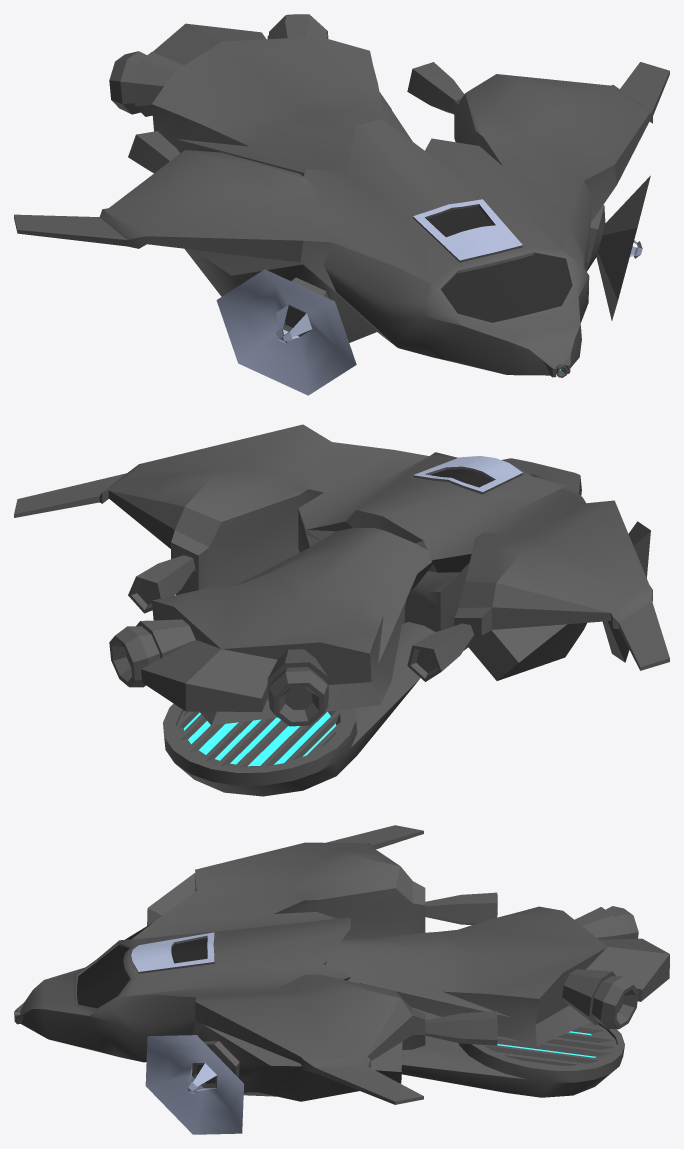
Rendered from Cursed Space.glb.
3 renders of one model, top to bottom at view 1: azimuth 30°, elevation 25°; view 2: azimuth 150°, elevation 25°; view 3: azimuth 270°, elevation 25°, orthographic. The views are drawn at different scales.
Parts seen in each view (by area): view 1: Spaceship.002; view 2: Spaceship.002; view 3: Spaceship.002.
Boxes of the visible parts, left/top/right/bottom form: Spaceship.002: left=14, top=14, right=669, bottom=395; Spaceship.002: left=14, top=424, right=669, bottom=796; Spaceship.002: left=14, top=825, right=669, bottom=1134.
Bounding box in the file's own units: 57 × 14.46 × 57.14.
